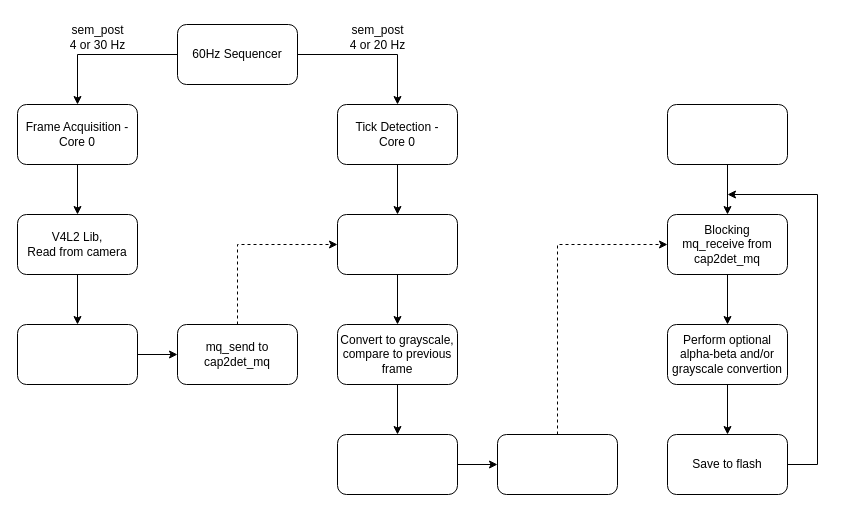
Some shapes in this 843 by 512 pixel diagram are drawn without their labels. The shapes that lost their labels are listed below. From the top down, each one's centre as x and y in pixels, then its label:
At point 727,134: "Flash Operations - Core 1".
At point 397,244: "Non-blocking mq_receive from cap2det_mq".
At point 77,354: "Convert to RGB".
At point 397,464: "If stable, compare to last saved frame".
At point 557,464: "If different from last frame, mq_send to det2save_mq".
